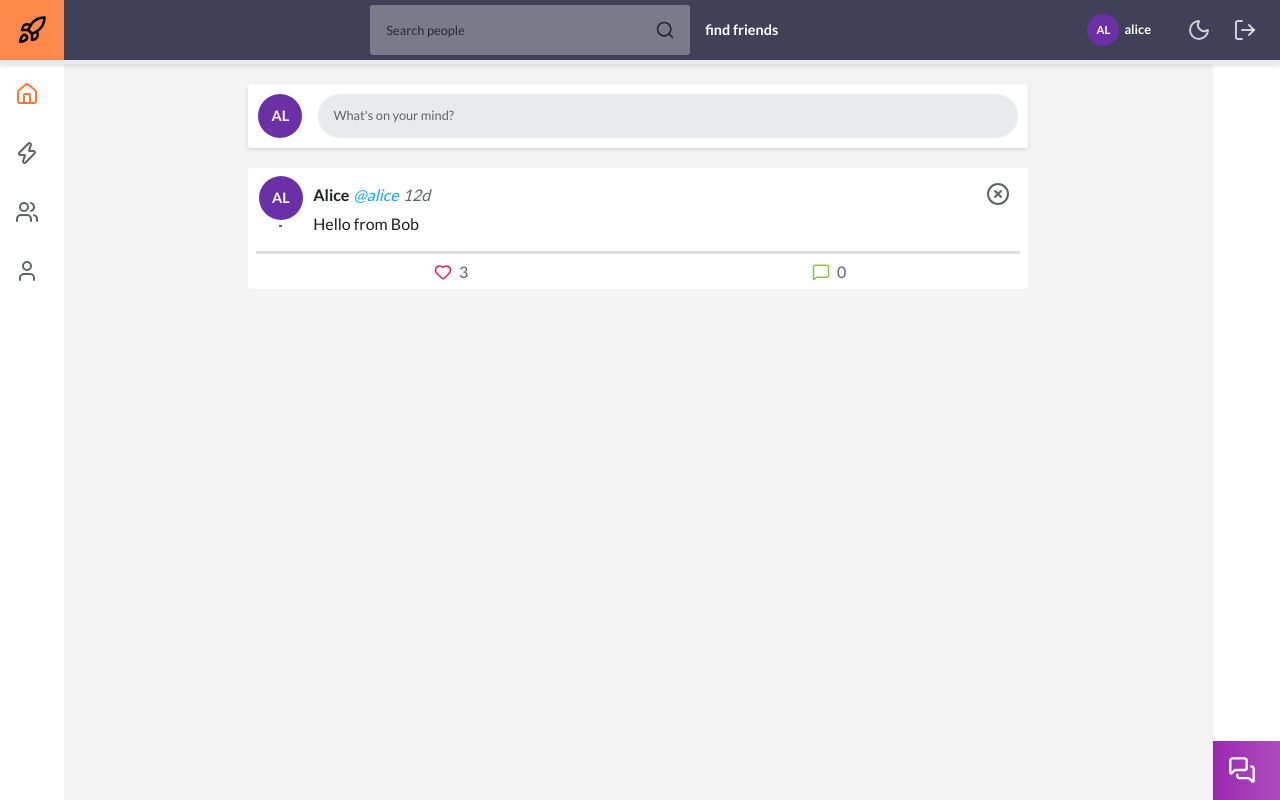
it: comments › lets the author of the post delete any comment under it
The width and height of the screenshot is (1280, 800).
Click the button named "Comments". click: (827, 272)
box: [638,258,1016,285]
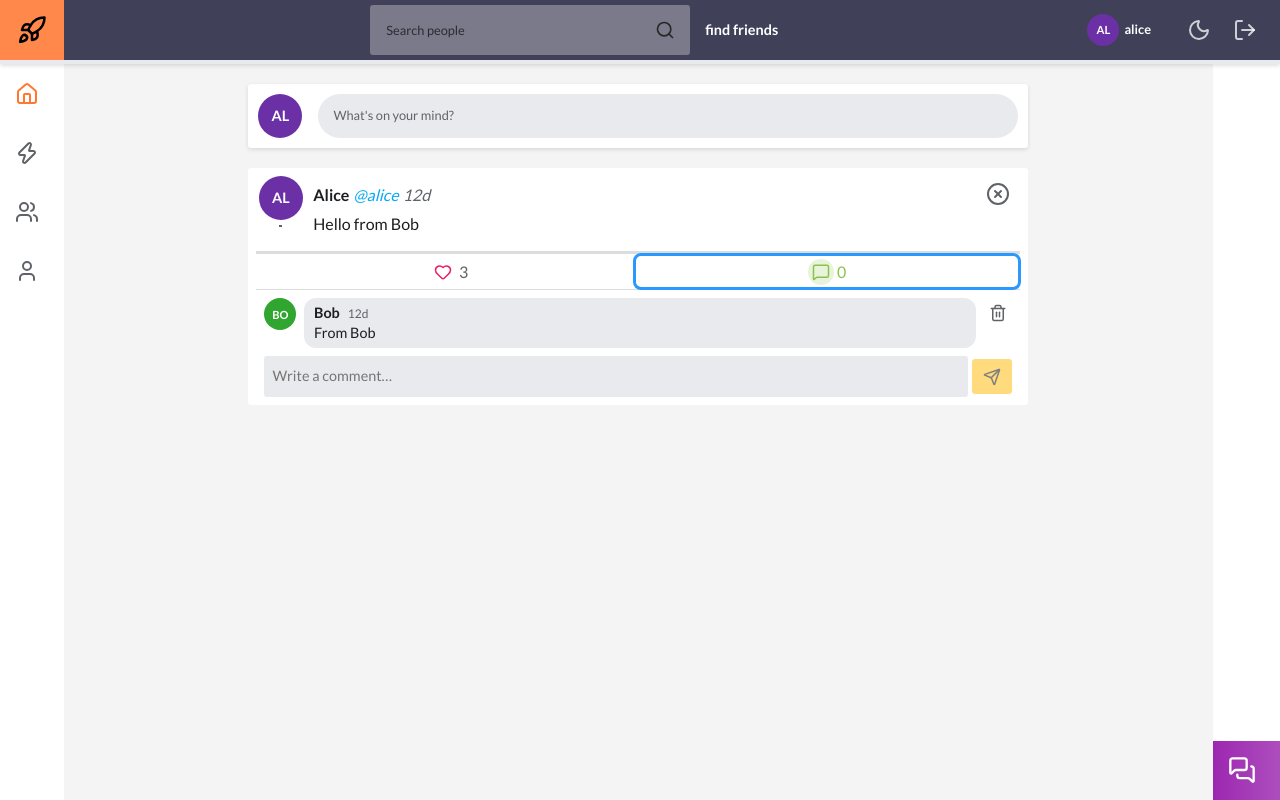
Now the 5th button named "Delete comment by bob" is shown, box [984,298,1012,327]
